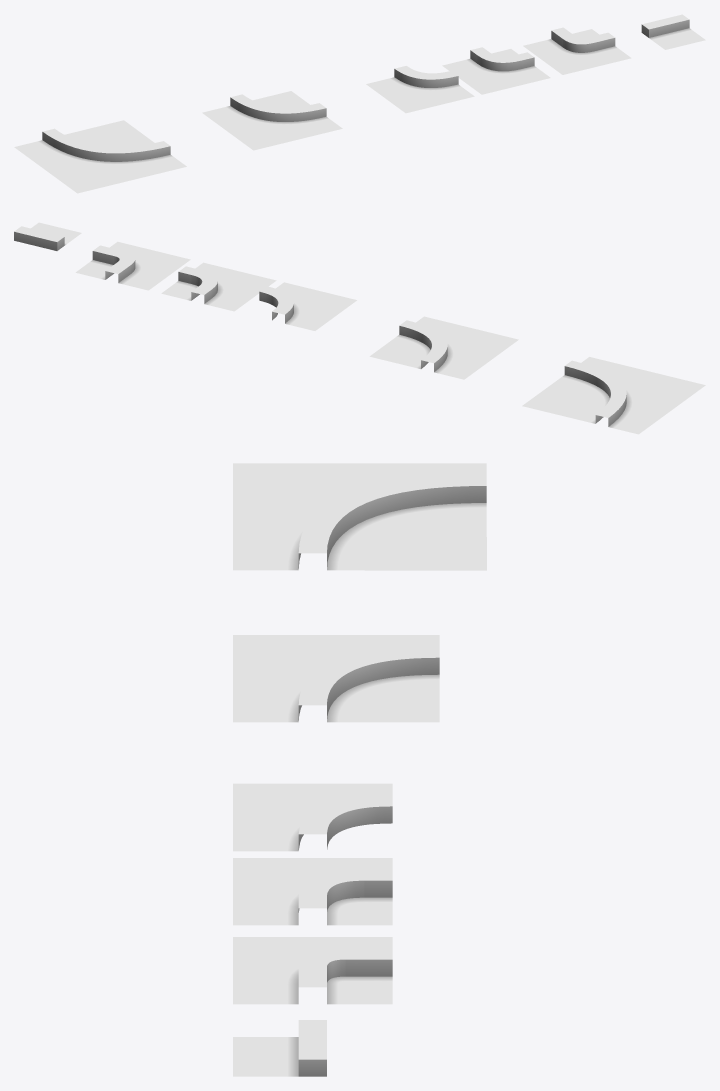
File: Walls.fbx
3 renders of one model, top to bottom at view 1: azimuth 30°, elevation 25°; view 2: azimuth 150°, elevation 25°; view 3: azimuth 270°, elevation 25°, orthographic. The views are drawn at different scales.
Parts seen in each view (by area): view 1: Wall_TurnSmooth5_inverse, Wall_TurnSmooth5, Wall_TurnSmooth3_inverse, Wall_TurnSmooth4_inverse, Wall_TurnSmooth4, Wall_TurnSmooth2_inverse, Wall_TurnSmooth1_inverse, Wall_S, Wall_TurnSmooth1, Wall_TurnSmooth2, Wall_S_1; view 2: Wall_TurnSmooth5, Wall_TurnSmooth5_inverse, Wall_TurnSmooth4_inverse, Wall_TurnSmooth3_inverse, Wall_TurnSmooth4, Wall_TurnSmooth2_inverse, Wall_TurnSmooth1_inverse, Wall_TurnSmooth1, Wall_TurnSmooth2, Wall_S, Wall_S_1; view 3: Wall_TurnSmooth5, Wall_TurnSmooth5_inverse, Wall_TurnSmooth4, Wall_TurnSmooth3_inverse, Wall_TurnSmooth4_inverse, Wall_TurnSmooth2_inverse, Wall_TurnSmooth1_inverse, Wall_TurnSmooth1, Wall_TurnSmooth2, Wall_S.
Boxes of the visible parts, x1=… form: Wall_TurnSmooth5_inverse: x1=14, y1=140, x2=186, y2=193; Wall_TurnSmooth5: x1=42, y1=120, x2=170, y2=161; Wall_TurnSmooth3_inverse: x1=366, y1=66, x2=474, y2=113; Wall_TurnSmooth4_inverse: x1=202, y1=106, x2=342, y2=150; Wall_TurnSmooth4: x1=230, y1=91, x2=326, y2=121; Wall_TurnSmooth2_inverse: x1=442, y1=58, x2=550, y2=94; Wall_TurnSmooth1_inverse: x1=523, y1=39, x2=631, y2=74; Wall_S: x1=645, y1=14, x2=705, y2=49; Wall_TurnSmooth1: x1=551, y1=27, x2=615, y2=52; Wall_TurnSmooth2: x1=470, y1=47, x2=534, y2=71; Wall_S_1: x1=641, y1=14, x2=688, y2=37; Wall_TurnSmooth5: x1=522, y1=360, x2=626, y2=426; Wall_TurnSmooth5_inverse: x1=581, y1=357, x2=705, y2=434; Wall_TurnSmooth4_inverse: x1=416, y1=316, x2=518, y2=379; Wall_TurnSmooth3_inverse: x1=259, y1=282, x2=356, y2=330; Wall_TurnSmooth4: x1=369, y1=320, x2=447, y2=371; Wall_TurnSmooth2_inverse: x1=195, y1=262, x2=276, y2=311; Wall_TurnSmooth1_inverse: x1=110, y1=241, x2=190, y2=290; Wall_TurnSmooth1: x1=75, y1=245, x2=135, y2=282; Wall_TurnSmooth2: x1=161, y1=266, x2=217, y2=303; Wall_S: x1=14, y1=222, x2=81, y2=250; Wall_S_1: x1=14, y1=226, x2=64, y2=250; Wall_TurnSmooth5: x1=298, y1=474, x2=486, y2=570; Wall_TurnSmooth5_inverse: x1=233, y1=463, x2=486, y2=570; Wall_TurnSmooth4: x1=298, y1=646, x2=439, y2=722; Wall_TurnSmooth3_inverse: x1=233, y1=783, x2=392, y2=851; Wall_TurnSmooth4_inverse: x1=233, y1=635, x2=439, y2=722; Wall_TurnSmooth2_inverse: x1=233, y1=858, x2=392, y2=925; Wall_TurnSmooth1_inverse: x1=233, y1=937, x2=392, y2=1004; Wall_TurnSmooth1: x1=298, y1=947, x2=392, y2=1004; Wall_TurnSmooth2: x1=298, y1=868, x2=392, y2=925; Wall_S: x1=233, y1=1020, x2=326, y2=1076.
Size of the model in its own units: 1545 by 20 by 270.
Materials: 1 (1 with a texture image).
